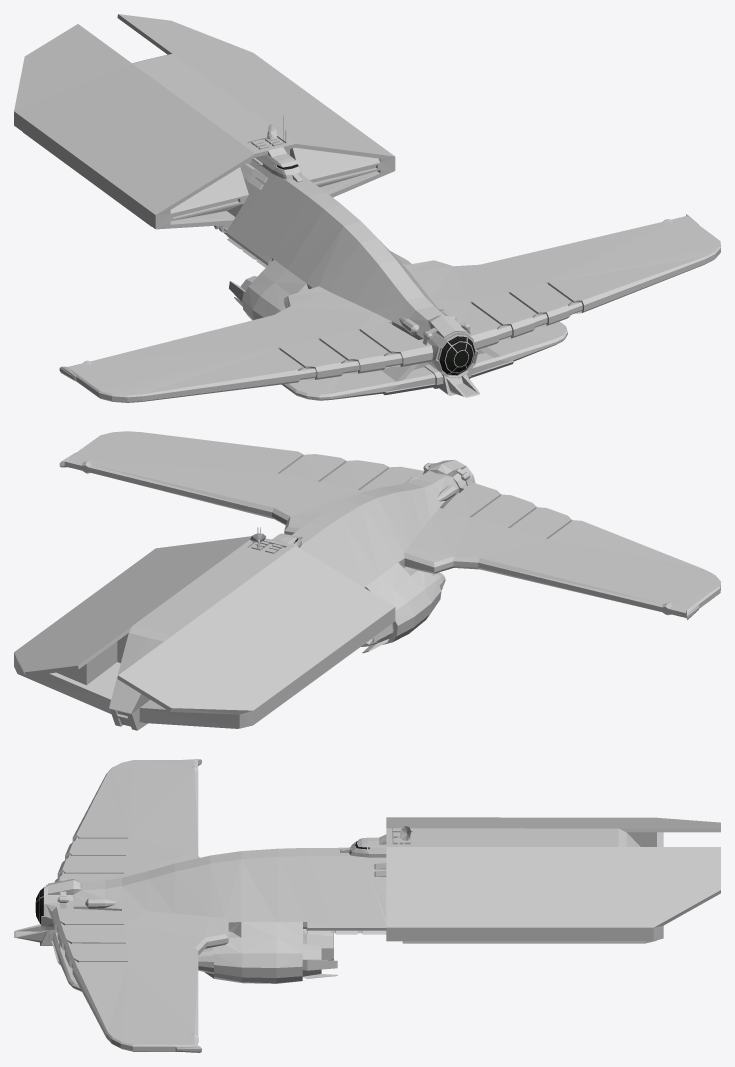
File: smuggler_warlord_ship_l1.fbx
The picture shows the model from 3 angles, top to bottom: view 1: azimuth 30°, elevation 25°; view 2: azimuth 150°, elevation 25°; view 3: azimuth 270°, elevation 25°; orthographic projection. The views are drawn at different scales.
Parts seen in each view (by area): view 1: mesh_node; view 2: mesh_node; view 3: mesh_node.
Part boxes in pixels (box(x1,y1,x2,y2)): mesh_node: box(14, 14, 720, 402); mesh_node: box(14, 431, 720, 730); mesh_node: box(14, 759, 720, 1052).
Bounding box in the file's own units: 172 × 45.34 × 178.
